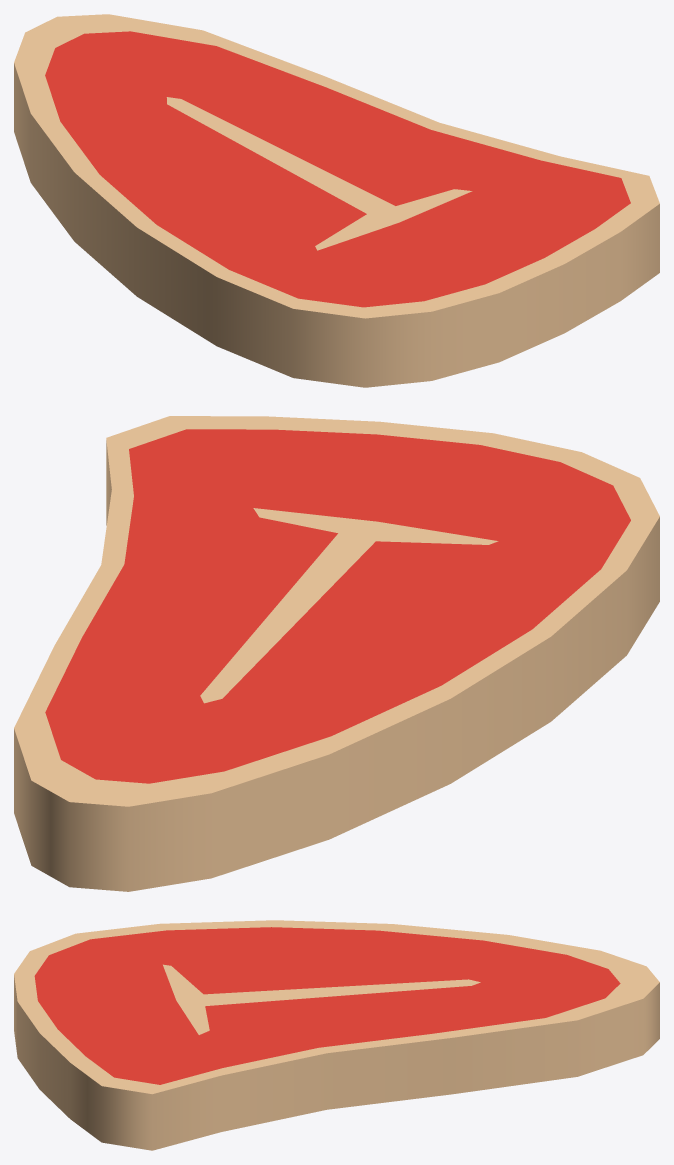
The model's file is beef_raw.glb.
3 views of the same model, one above another, from view 1: azimuth 30°, elevation 25°; view 2: azimuth 150°, elevation 25°; view 3: azimuth 270°, elevation 25° (orthographic). The views are drawn at different scales.
Visible parts, largest first — view 1: beef_raw; view 2: beef_raw; view 3: beef_raw.
Boxes of the visible parts, box(x1,y1,x2,y2) form: beef_raw: box(14, 14, 659, 387); beef_raw: box(14, 416, 659, 891); beef_raw: box(14, 920, 659, 1150).
Bounding box in the file's own units: 0.2568 × 0.0389 × 0.4028.
